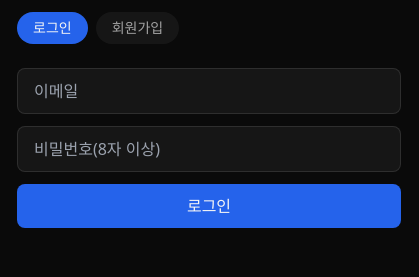
Scenario: <LoginForm> › 실패하면 에러 메시지를 보여준다
Type "a@b.com" into the field with placeholder "이메일".
click(209, 91); type("a@b.com")  # box x1=17 y1=68 x2=401 y2=114
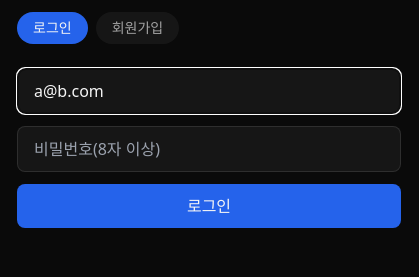
Type "wrongpass" into the password field with placeholder "비밀번호(8자 이상)".
click(209, 149); type("wrongpass")  # box x1=17 y1=126 x2=401 y2=172
Then press Enter
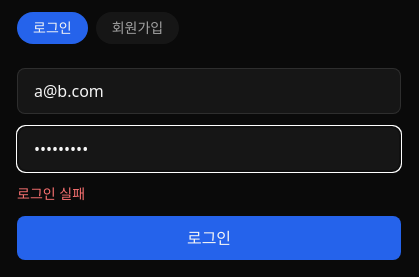
Expected: the text "로그인 실패" is shown, x1=17 y1=184 x2=85 y2=203
